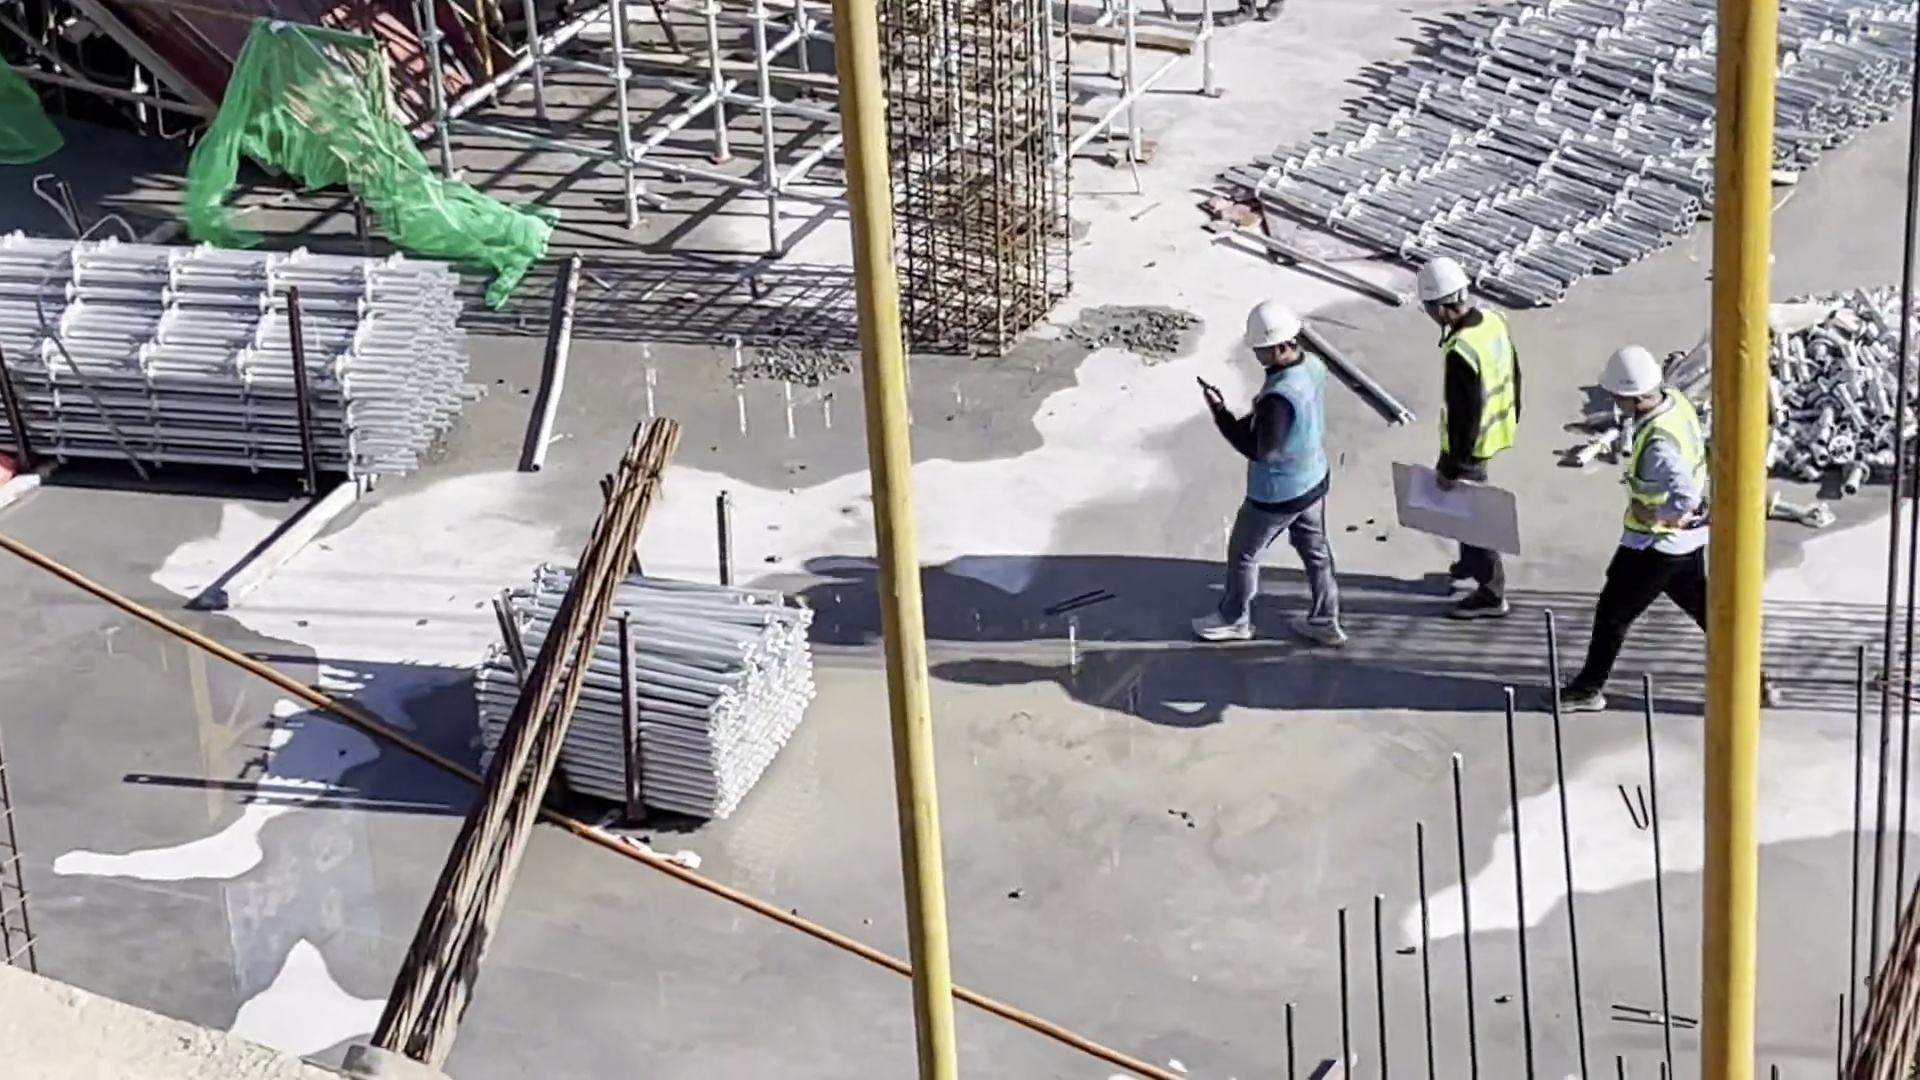helmet: (1600, 343, 1664, 397), (1242, 299, 1303, 349), (1414, 255, 1473, 304)
person: (1538, 337, 1801, 722), (1196, 298, 1355, 650), (1411, 254, 1528, 624)
scaffold: (1, 236, 467, 487), (476, 568, 822, 821)
vest: (1246, 352, 1331, 506), (1437, 306, 1521, 460), (1620, 395, 1705, 535)
